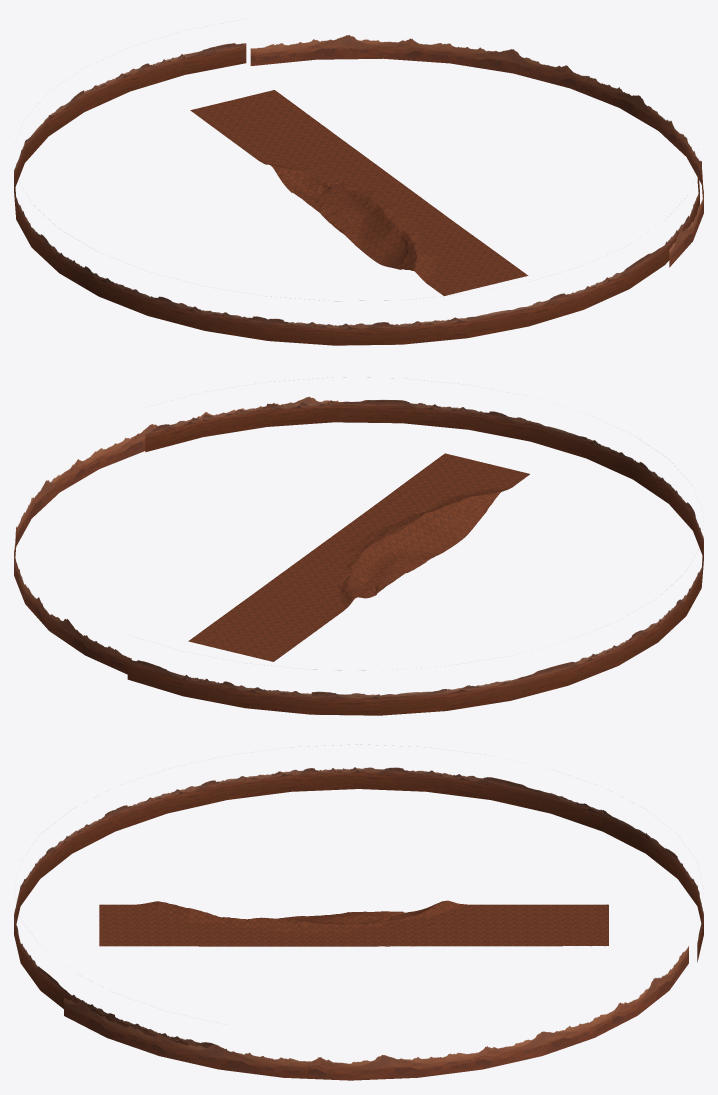
Rendered from ELYSIUM_IV_SOL_03_Terrain.glb.
3 views of the same model, one above another, from view 1: azimuth 30°, elevation 25°; view 2: azimuth 150°, elevation 25°; view 3: azimuth 270°, elevation 25° (orthographic).
Parts seen in each view (by area): view 1: SOL_04_Mars_Terrain, Panorama.02, Panorama.01; view 2: Panorama.02, SOL_04_Mars_Terrain, Panorama.01; view 3: SOL_04_Mars_Terrain, Panorama.02, Panorama.01.
Boxes of the visible parts, x1,y1,x2,y2 form: SOL_04_Mars_Terrain: (190,90,528,295); Panorama.02: (14,43,699,345); Panorama.01: (250,35,703,267); Panorama.02: (127,400,703,715); SOL_04_Mars_Terrain: (188,453,529,661); Panorama.01: (14,396,338,674); SOL_04_Mars_Terrain: (99,900,608,946); Panorama.02: (14,767,703,1049); Panorama.01: (64,946,688,1080).
Size of what is drawn, in the model's own units: 17596 by 1428 by 17597.
13 materials, 9 textured.
